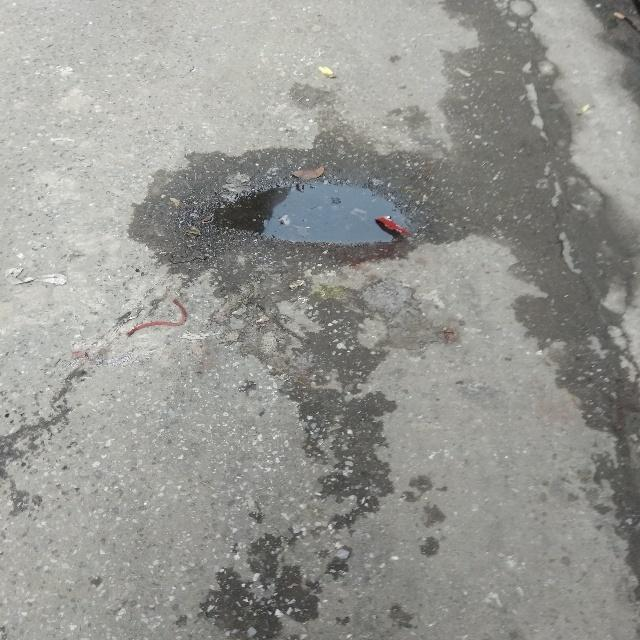Pothole: (226, 170, 382, 247)
